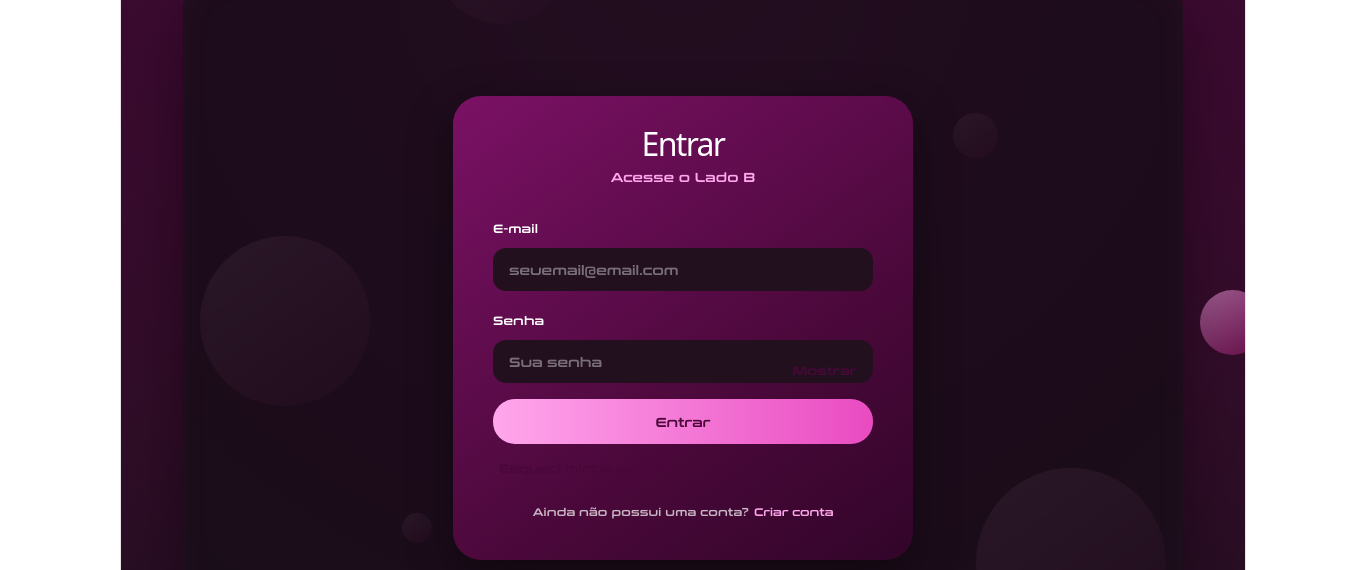
Scenario: Entrar › login válido leva à página de informações e grava usuário logado
Type "maria@x.com" into the field with placeholder "seuemail@email.com" at (683, 270), box x1=493 y1=248 x2=873 y2=291
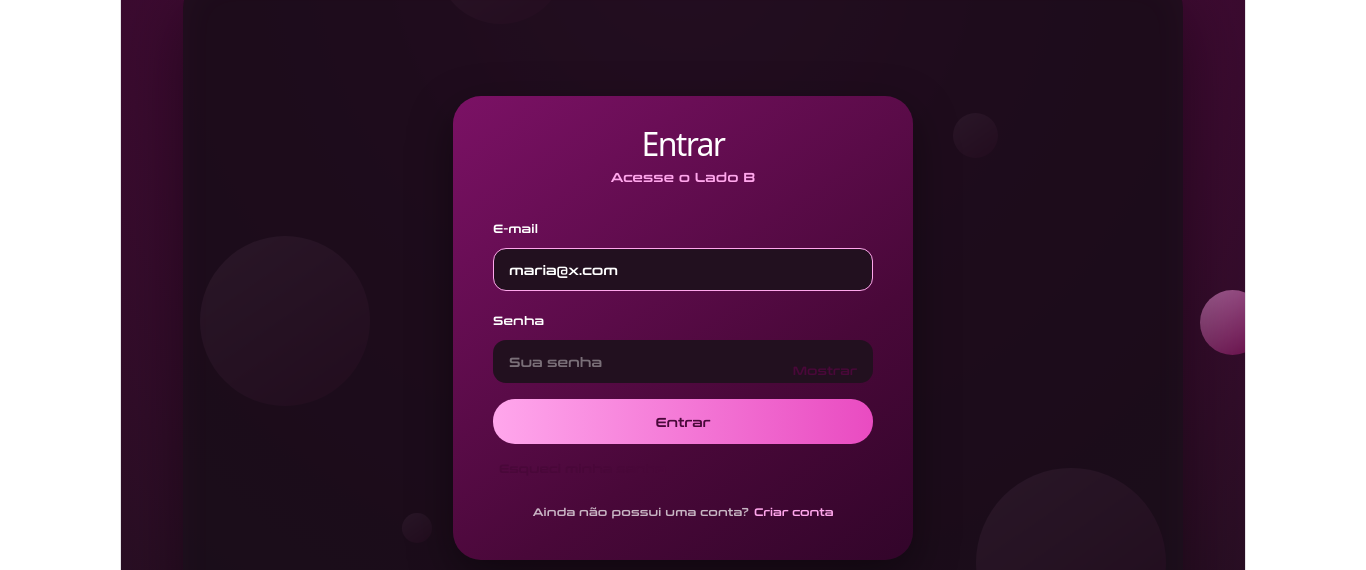
Type "123456" into the password field with placeholder "Sua senha" at (683, 362), box x1=493 y1=340 x2=873 y2=383
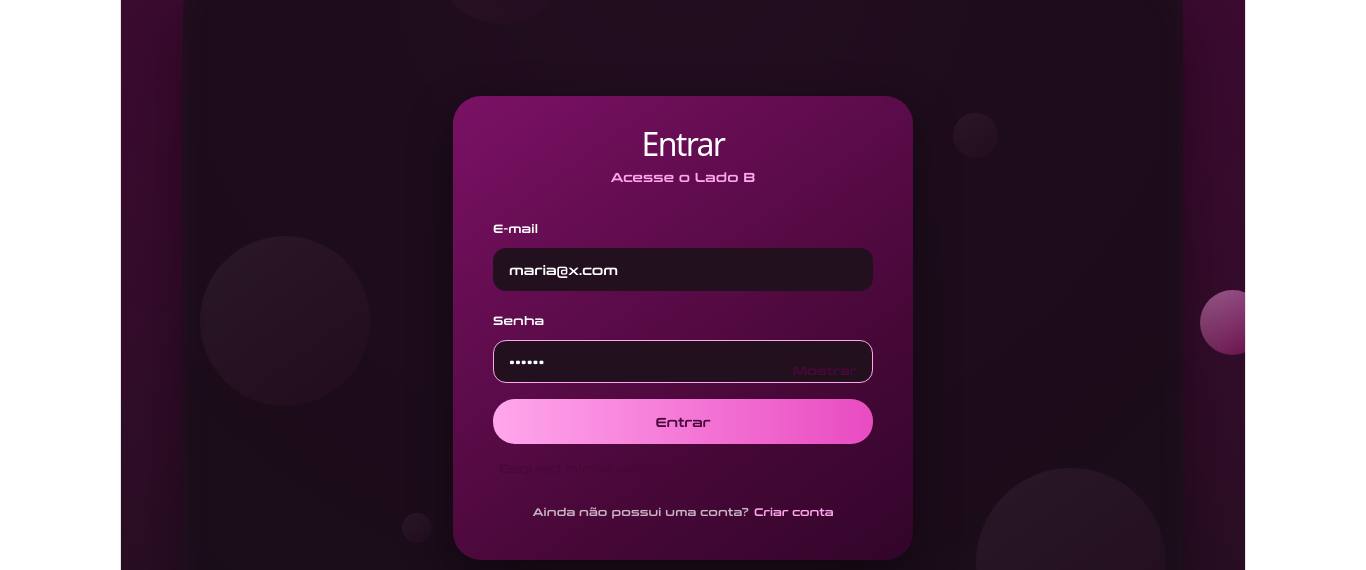
Click the button "Entrar" at (683, 422), box x1=493 y1=399 x2=873 y2=444
(page scrolled)
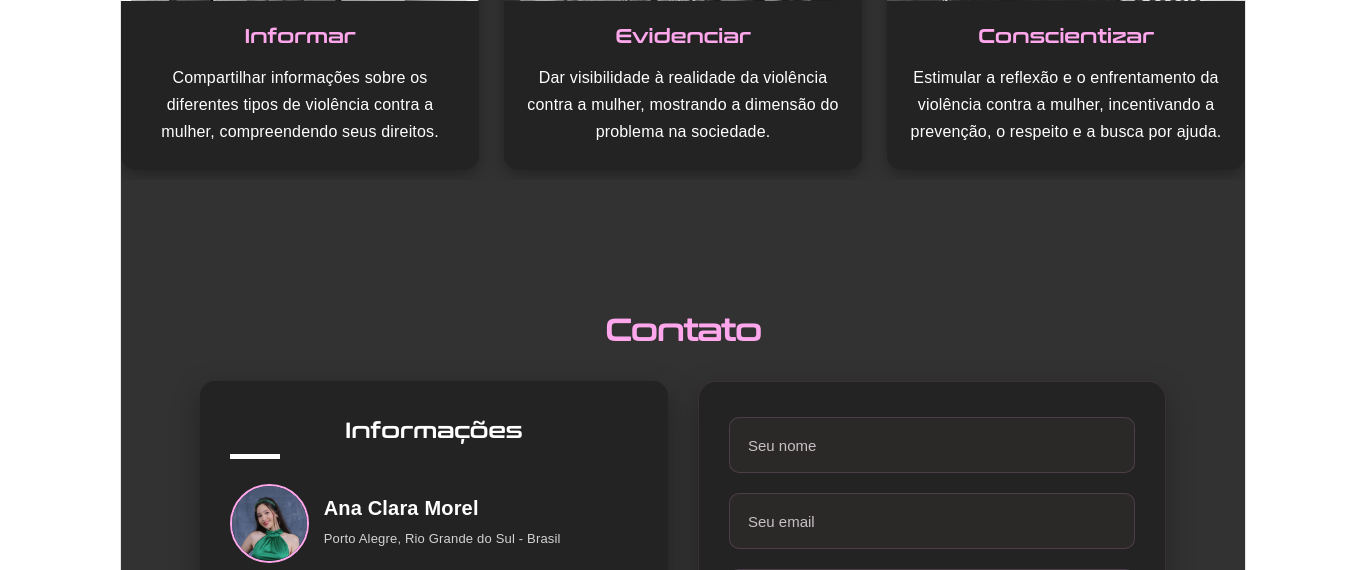
Result: the heading "Contato" is shown at x1=605 y1=305 x2=761 y2=350
